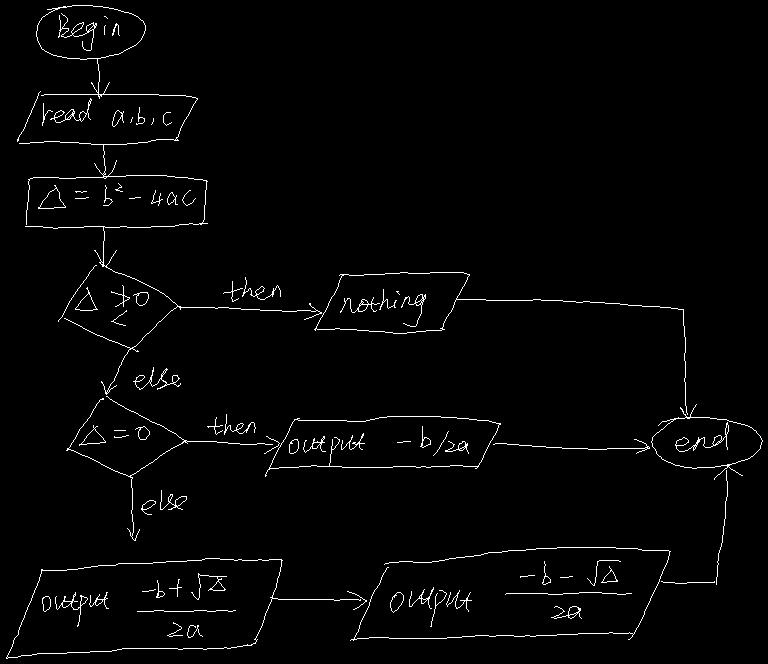arrow: (457, 299, 696, 418), (661, 465, 742, 584), (179, 303, 321, 319), (493, 439, 649, 453), (270, 591, 366, 609), (182, 436, 279, 453), (101, 348, 131, 394), (94, 226, 116, 266), (94, 144, 116, 178), (127, 478, 139, 540), (91, 59, 109, 98)
data: (350, 547, 670, 640), (6, 558, 282, 658), (265, 416, 500, 476), (17, 91, 197, 144), (314, 272, 469, 333)
decision: (58, 262, 180, 351), (66, 396, 187, 477)
process: (25, 175, 207, 228)
terminator: (36, 5, 145, 59), (651, 417, 762, 468)
text: (390, 560, 631, 626), (42, 573, 235, 637), (289, 426, 468, 465), (38, 183, 195, 208), (42, 98, 171, 126), (340, 289, 425, 326), (75, 285, 148, 325), (58, 13, 119, 50), (675, 422, 728, 451), (79, 425, 149, 445), (223, 277, 280, 301), (141, 490, 186, 514), (133, 367, 180, 389), (207, 414, 255, 434)
